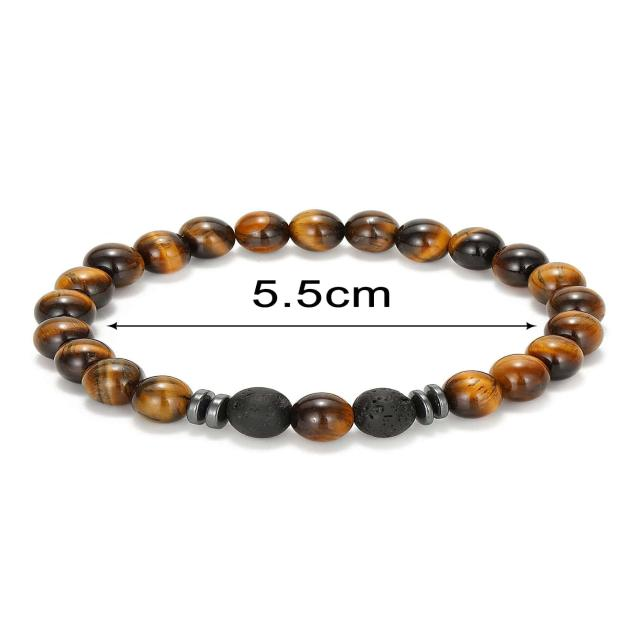bracelet: (0, 163, 640, 487)
